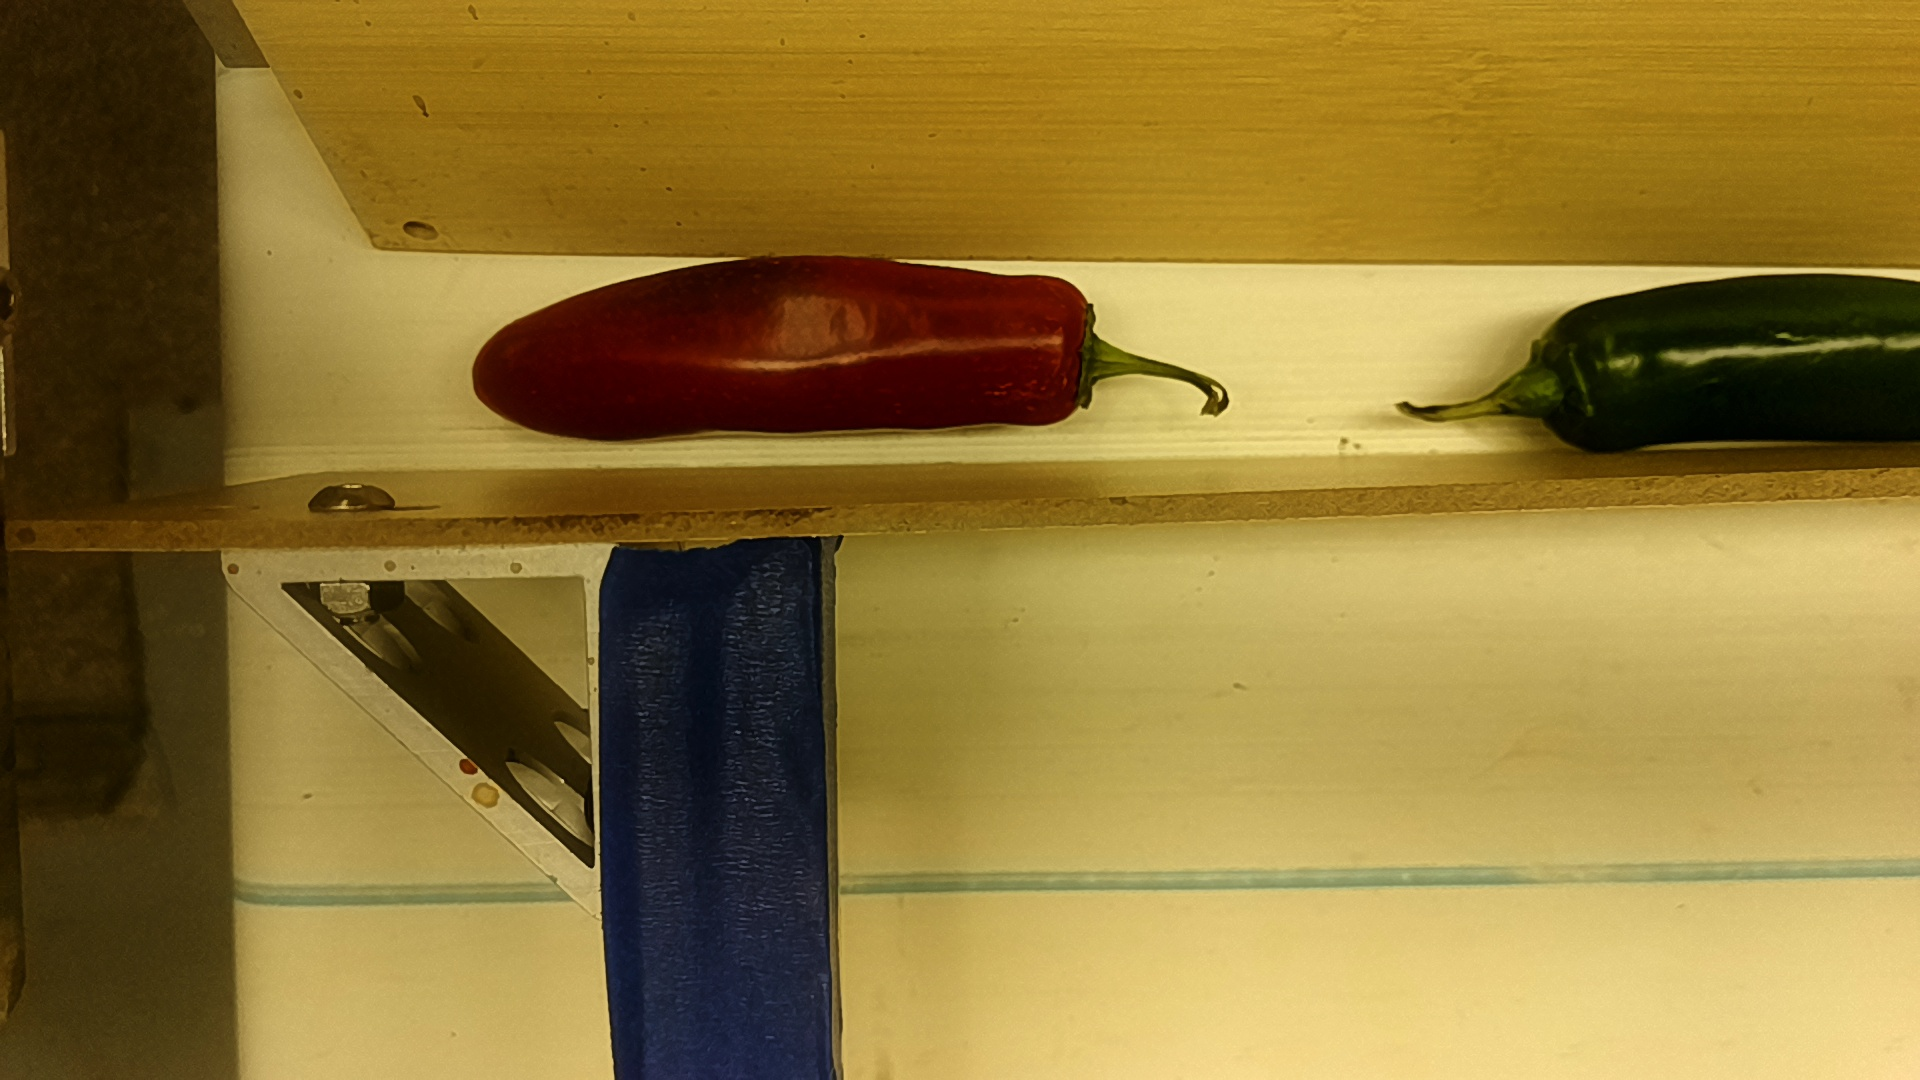Cut Point: (1516, 299, 1611, 464), (1038, 265, 1120, 435)
